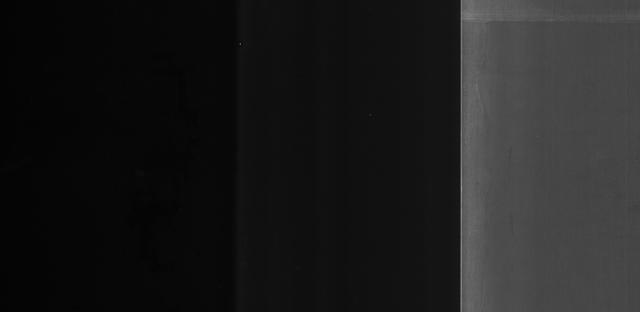welding_line: (457, 11, 640, 30)
